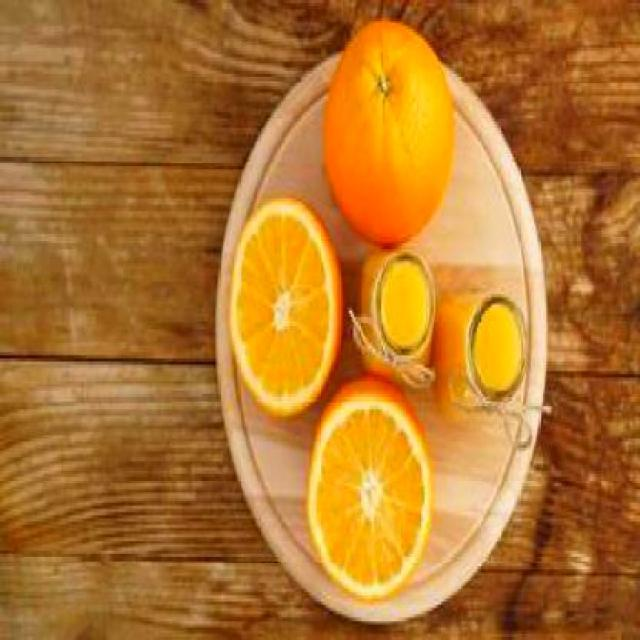Jeruk Sudah Matang: (324, 22, 452, 246)
